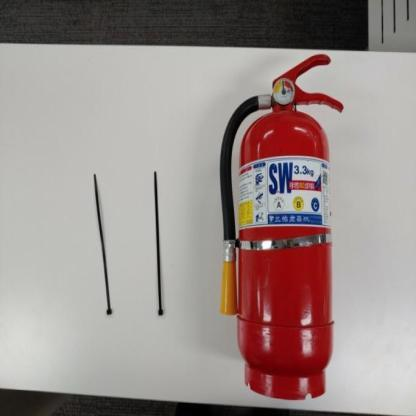Fire Extinguisher: (209, 48, 351, 404)
